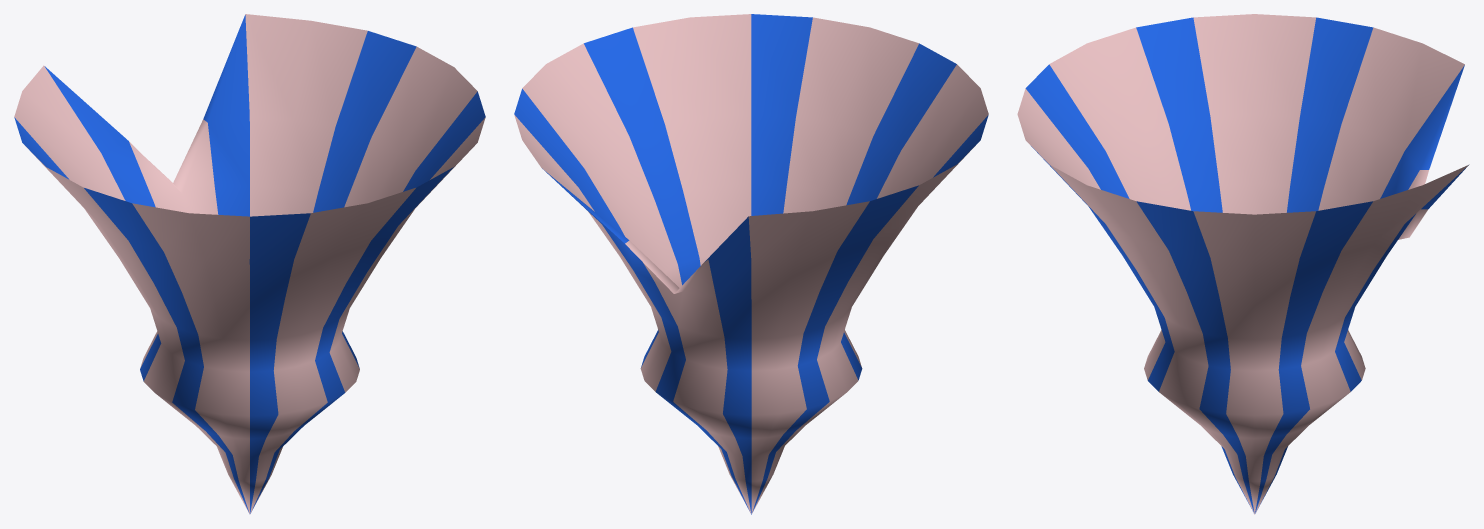
The model's file is duckTent.glb.
3 renders of one model, left to right at view 1: azimuth 30°, elevation 25°; view 2: azimuth 150°, elevation 25°; view 3: azimuth 270°, elevation 25°, orthographic.
Visible parts, largest first — view 1: Circle; view 2: Circle; view 3: Circle.
Part boxes in pixels (x1,y1,x2,y2): Circle: (14,14,485,514); Circle: (514,14,988,514); Circle: (1017,14,1469,514).
Size of the model in its own units: 4.28 by 3.99 by 4.08.
